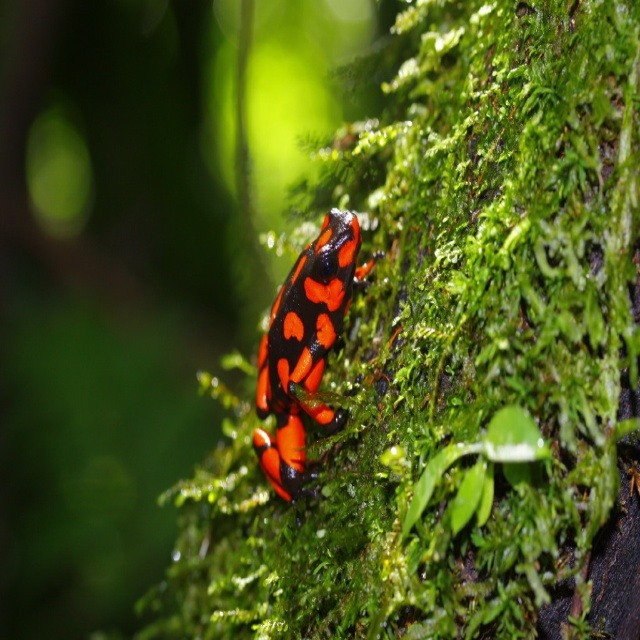Frog: (252, 208, 386, 504)
